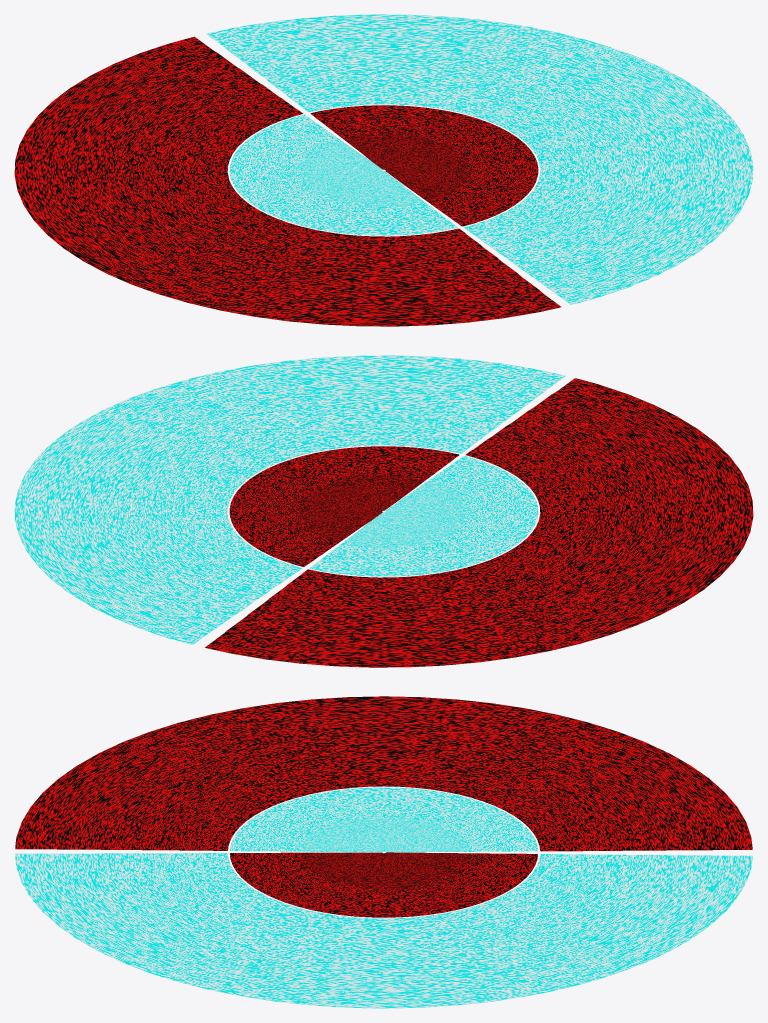
Rendered from SM_SpherePlane_04_HJS.fbx.
3 renders of one model, top to bottom at view 1: azimuth 30°, elevation 25°; view 2: azimuth 150°, elevation 25°; view 3: azimuth 270°, elevation 25°, orthographic.
Visible parts, largest first — view 1: SM_SpherePlane_04_HJS; view 2: SM_SpherePlane_04_HJS; view 3: SM_SpherePlane_04_HJS.
Part boxes in pixels (box(x1,y1,x2,y2)): SM_SpherePlane_04_HJS: box(14, 14, 753, 326); SM_SpherePlane_04_HJS: box(14, 355, 753, 667); SM_SpherePlane_04_HJS: box(15, 696, 752, 1008).
Bounding box in the file's own units: 1098 × 0.000179 × 1098.
